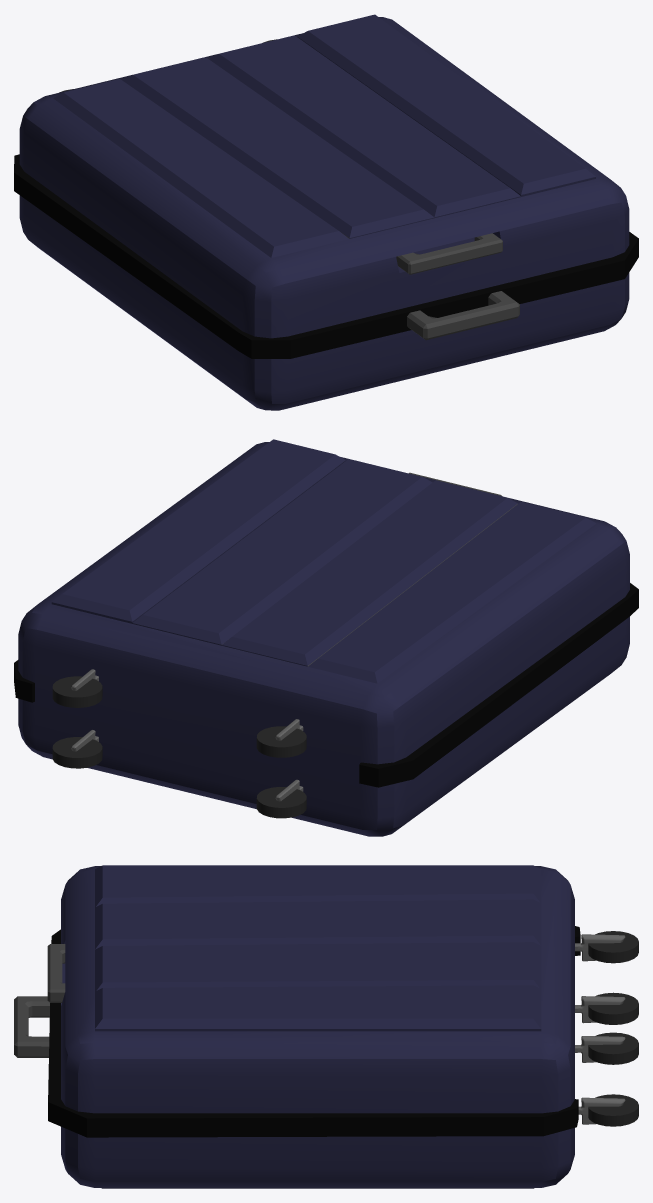
File: valise bleu.fbx
The picture shows the model from 3 angles, top to bottom: view 1: azimuth 30°, elevation 25°; view 2: azimuth 150°, elevation 25°; view 3: azimuth 270°, elevation 25°; orthographic projection. The views are drawn at different scales.
Parts seen in each view (by area): view 1: pCube1, pCube2, pasted__pCube2; view 2: pCube1, pasted__pasted__pasted__pCylinder1 (×2), pasted__pasted__pCylinder1, pasted__pasted__pasted__pasted__pCylinder1; view 3: pCube1, pasted__pasted__pasted__pCylinder1 (×2), pCube2, pasted__pasted__pasted__pCube2 (×2), pasted__pasted__pCylinder1, pasted__pasted__pasted__pasted__pCylinder1, pasted__pCube2, pasted__pasted__pCube2, pasted__pasted__pasted__pasted__pCube2.
Part boxes in pixels (x1,y1,x2,y2): pCube1: (14, 14, 638, 410); pCube2: (407, 291, 519, 340); pasted__pCube2: (396, 233, 502, 274); pCube1: (14, 439, 638, 836); pasted__pasted__pasted__pCylinder1 (×2): (52, 726, 306, 768); pasted__pasted__pCylinder1: (52, 676, 102, 707); pasted__pasted__pasted__pasted__pCylinder1: (256, 787, 306, 818); pCube1: (48, 865, 580, 1188); pasted__pasted__pasted__pCylinder1 (×2): (588, 931, 638, 1126); pCube2: (14, 996, 49, 1057); pasted__pasted__pasted__pCube2 (×2): (575, 934, 625, 1124); pasted__pasted__pCylinder1: (588, 1032, 638, 1064); pasted__pasted__pasted__pasted__pCylinder1: (588, 992, 638, 1024); pasted__pCube2: (47, 944, 65, 1002); pasted__pasted__pCube2: (575, 1036, 625, 1062); pasted__pasted__pasted__pasted__pCube2: (575, 996, 625, 1023).
Size of the model in its own units: 1.87 by 0.7376 by 2.46.
